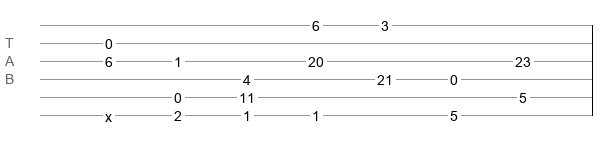0: (105, 36, 113, 46), (174, 90, 182, 100), (450, 72, 458, 82)
1: (174, 54, 182, 64), (243, 108, 251, 118), (312, 108, 320, 118)
11: (239, 90, 255, 100)
2: (174, 108, 182, 118)
20: (308, 54, 324, 64)
21: (377, 72, 393, 82)
23: (515, 54, 531, 64)
3: (381, 18, 389, 28)
4: (243, 72, 251, 82)
5: (450, 108, 458, 118), (519, 90, 527, 100)
6: (105, 54, 113, 64), (312, 18, 320, 28)
x: (105, 109, 112, 117)
